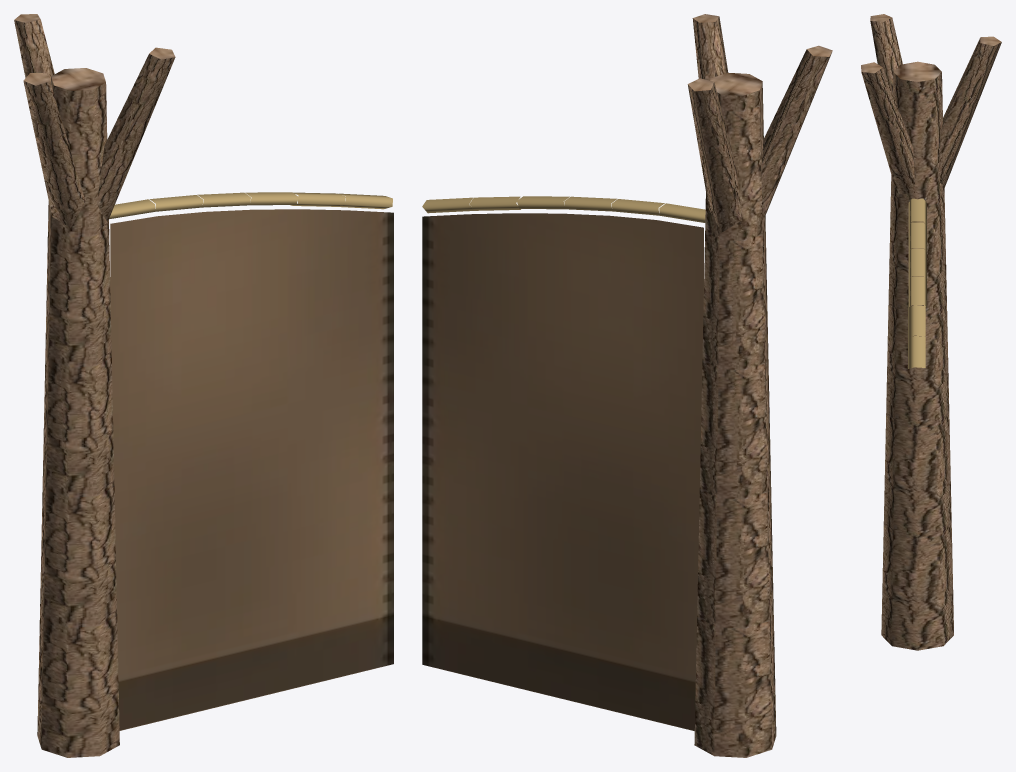
The model's file is hide_wall.glb.
3 views of the same model, side by side, from view 1: azimuth 30°, elevation 25°; view 2: azimuth 150°, elevation 25°; view 3: azimuth 270°, elevation 25° (orthographic). The views are drawn at different scales.
Parts seen in each view (by area): view 1: prop (×2); view 2: prop (×2); view 3: prop (×2).
Part boxes in pixels (box(x1,y1,x2,y2)): prop (×2): box(14, 14, 393, 757); prop (×2): box(422, 14, 832, 757); prop (×2): box(861, 14, 1001, 650).
Bounding box in the file's own units: 0.629 × 1.08 × 0.2324.
3 materials, 2 textured.
